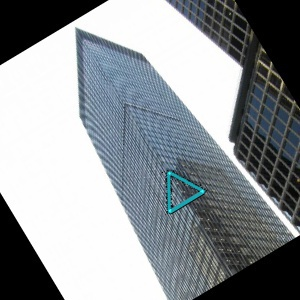triangle: (160, 168, 207, 214)
